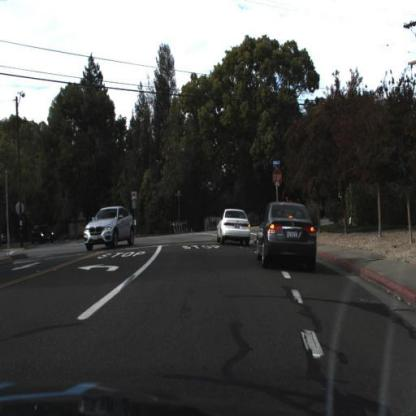car: (253, 198, 324, 274), (83, 196, 137, 256), (217, 206, 254, 251), (31, 223, 56, 249)
